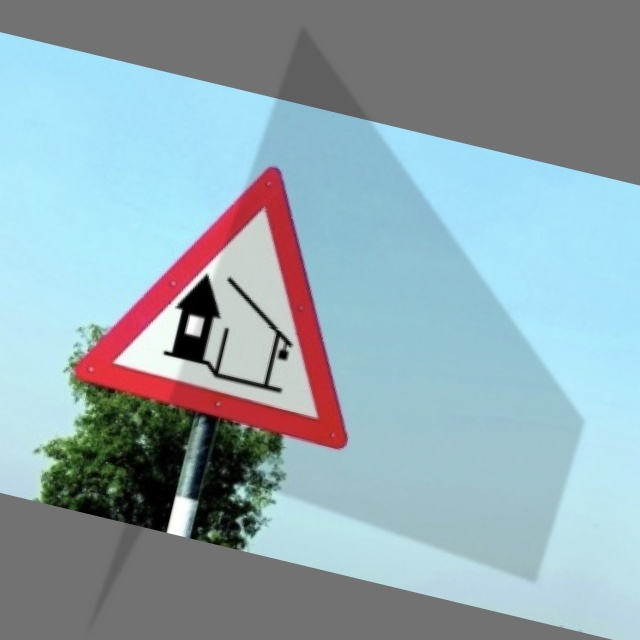Barrier_Ahead: (77, 131, 407, 455)
